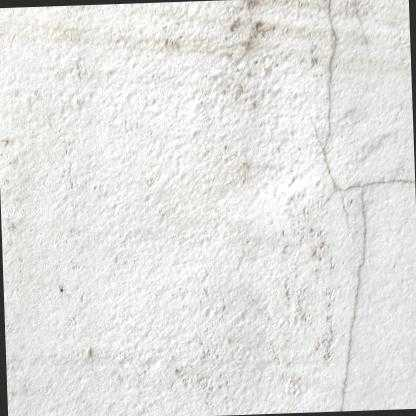crack: (321, 0, 415, 409)
